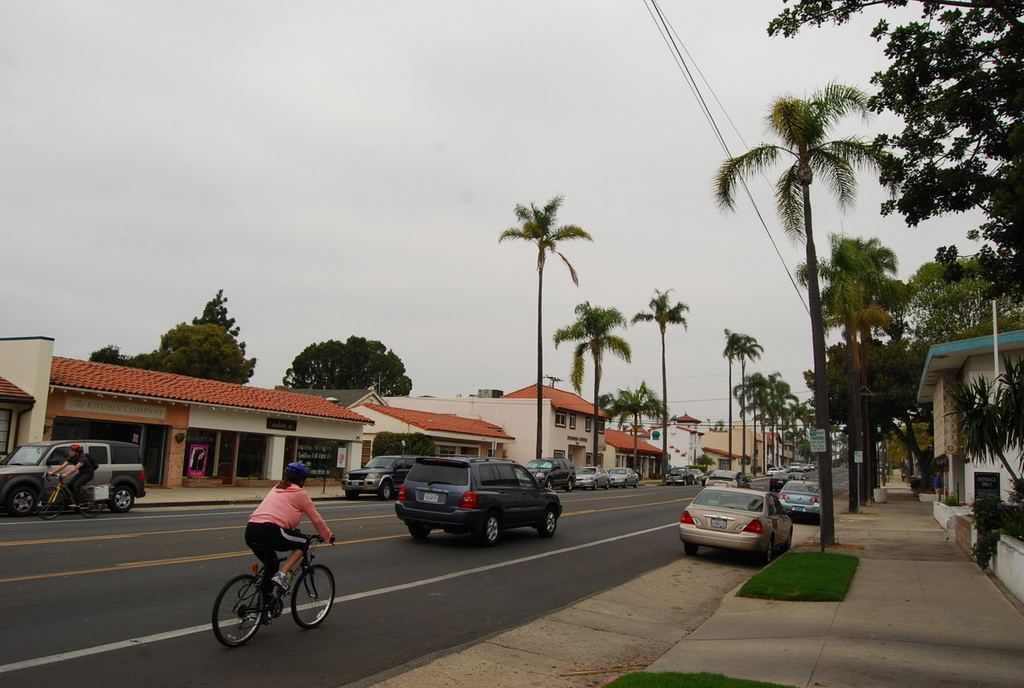Bike: (214, 533, 338, 646)
